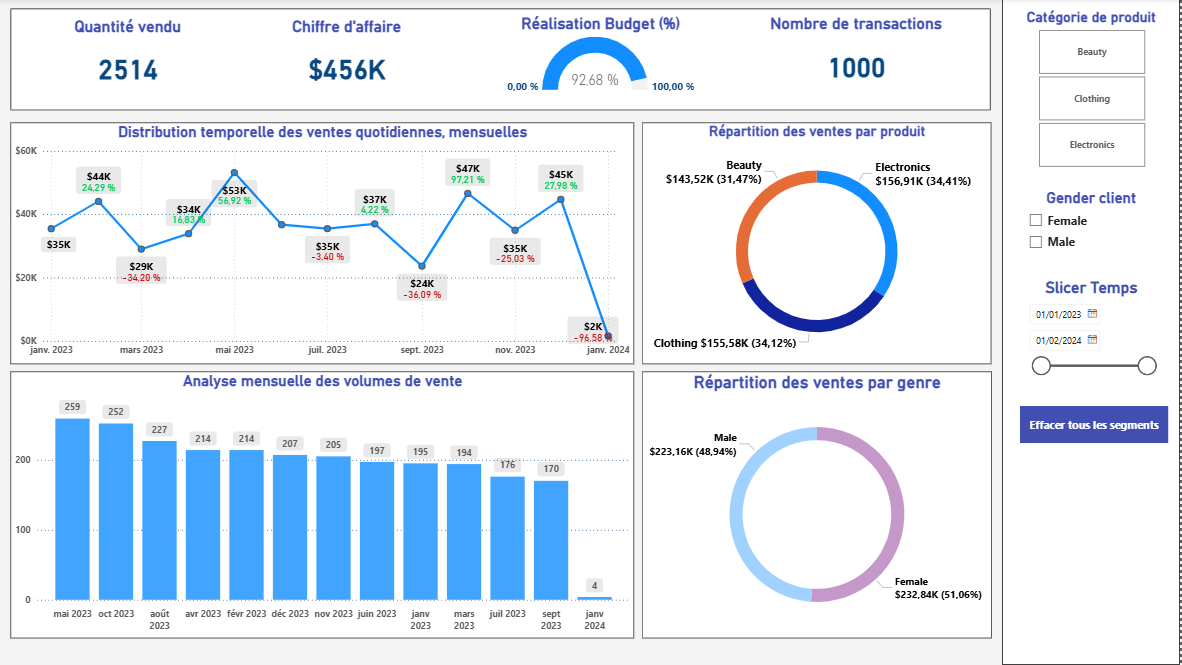

The dashboard page shown, as its layout file describes it:
{"tool":"powerbi","page":{"name":"les ventes","canvas":[1600,900],"ordinal":0},"visuals":[{"type":"shape","box":[1360,0,240,900],"z":0,"group":"g2"},{"type":"shape","box":[22.5,13.8,1322.5,137.5],"z":0,"group":"g1"},{"type":"lineChart","title":"Distribution temporelle des ventes quotidiennes, mensuelles","fields":{"Y":["fact_sales.Total Sales"],"Category":["dim_date.First Date of Month","dim_date.Date"]},"box":[22.9,168.6,841.4,325.7],"z":0},{"type":"card","title":"Nombre de transactions","fields":{"Values":["fact_sales.Total Transactions"]},"box":[1013.7,22.6,298.8,110],"z":500,"group":"g1"},{"type":"card","title":"Chiffre d''affaire","fields":{"Values":["fact_sales.Total Sales"]},"box":[327.5,26.3,296.2,107.5],"z":1000,"group":"g1"},{"type":"slicer","title":"Slicer Temps","fields":{"Values":["dim_date.Date"]},"box":[1383.8,377.5,192.5,173.8],"z":1000,"group":"g2"},{"type":"gauge","title":"Réalisation Budget (%)","fields":{"Y":["fact_sales.Réalisation budget %"]},"box":[631.3,22.6,373.8,111.2],"z":1500,"group":"g1"},{"type":"group","id":"g1","title":"Kpi","box":[22.5,13.8,1322.5,137.5],"z":2000},{"type":"card","title":"Quantité vendu","fields":{"Values":["fact_sales.Quantity Sold"]},"box":[33.4,26.9,296.2,107.5],"z":2000,"group":"g1"},{"type":"slicer","title":"Gender client","fields":{"Values":["dim_customer.gender"]},"box":[1383.8,257.5,192.5,120],"z":2000,"group":"g2"},{"type":"group","id":"g2","title":"Filters","box":[1360,0,240,900],"z":3000},{"type":"slicer","title":"Catégorie de produit","fields":{"Values":["dim_product.Product Category"]},"box":[1383.8,13.8,192.5,220],"z":3000,"group":"g2"},{"type":"donutChart","title":"Répartition des ventes par genre","fields":{"Y":["fact_sales.Total Sales"],"Category":["dim_customer.gender"]},"box":[874,504,472,360],"z":4000},{"type":"actionButton","box":[1383.8,551.2,200,50],"z":4000,"group":"g2"},{"type":"donutChart","title":"Répartition des ventes par produit ","fields":{"Category":["dim_product.Product Category"],"Y":["fact_sales.Total Sales"]},"box":[874.3,168.6,471.4,325.7],"z":5000},{"type":"columnChart","title":"Analyse mensuelle des volumes de vente","fields":{"Category":["dim_date.Month-Year"],"Y":["fact_sales.Quantity Sold"]},"box":[22.9,504.3,841.4,360],"z":6000}]}

Visuals, with their boxes in screenshot pixels (x1, y1, x2, y2), scaled from the page's 1600x900 canvas onto the 1182x665 screenshot:
shape: [1005, 0, 1181, 664]
shape: [17, 10, 994, 112]
"Distribution temporelle des ventes quotidiennes, mensuelles" lineChart: [17, 125, 639, 365]
"Nombre de transactions" card: [749, 17, 970, 98]
"Chiffre d''affaire" card: [242, 19, 461, 99]
"Slicer Temps" slicer: [1022, 279, 1164, 407]
"Réalisation Budget (%)" gauge: [466, 17, 743, 99]
"Kpi" group: [17, 10, 994, 112]
"Quantité vendu" card: [25, 20, 243, 99]
"Gender client" slicer: [1022, 190, 1164, 279]
"Filters" group: [1005, 0, 1181, 664]
"Catégorie de produit" slicer: [1022, 10, 1164, 173]
"Répartition des ventes par genre" donutChart: [646, 372, 994, 638]
actionButton: [1022, 407, 1170, 444]
"Répartition des ventes par produit " donutChart: [646, 125, 994, 365]
"Analyse mensuelle des volumes de vente" columnChart: [17, 373, 639, 639]
